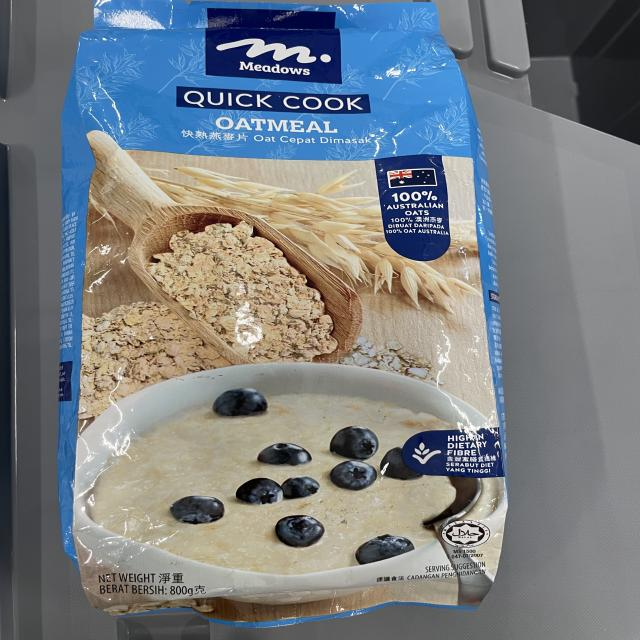object_name: (74, 11, 502, 594)
